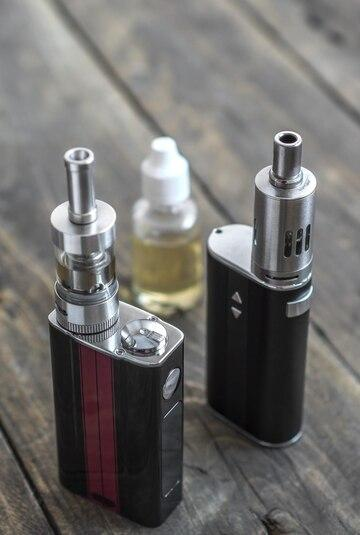Vape: (48, 148, 183, 525), (207, 131, 316, 446)
